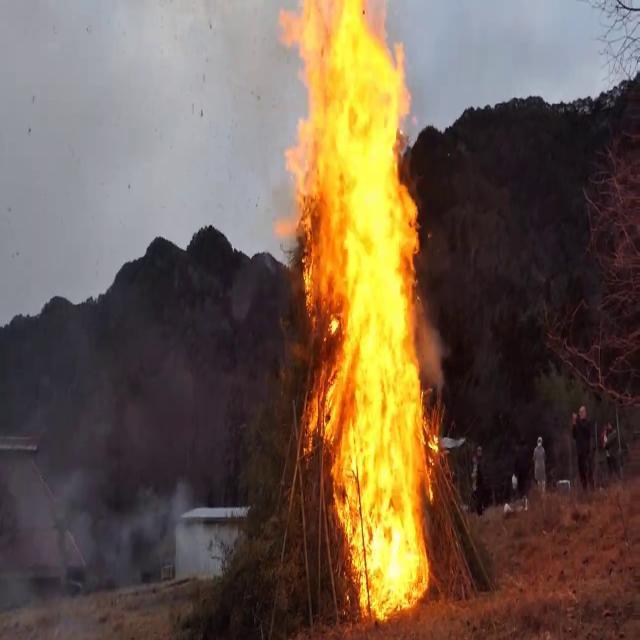Fire: (280, 0, 446, 624)
Smoke: (0, 400, 127, 586)
